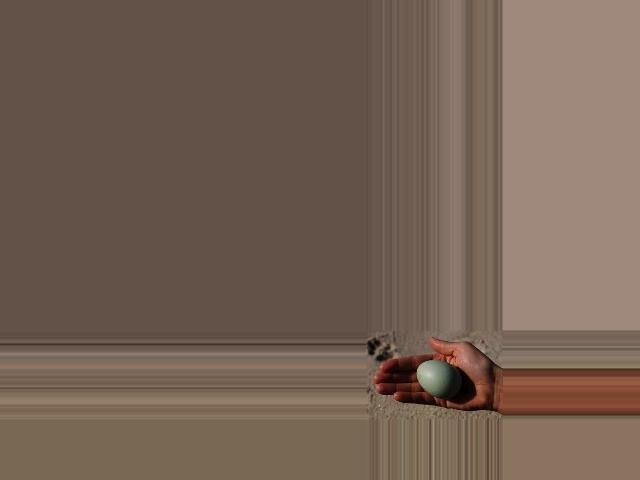egg: (415, 360, 460, 398)
